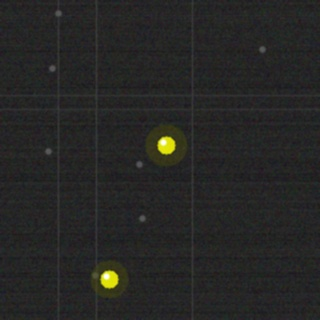yellow_warning: (155, 134, 177, 156), (98, 268, 120, 290)
